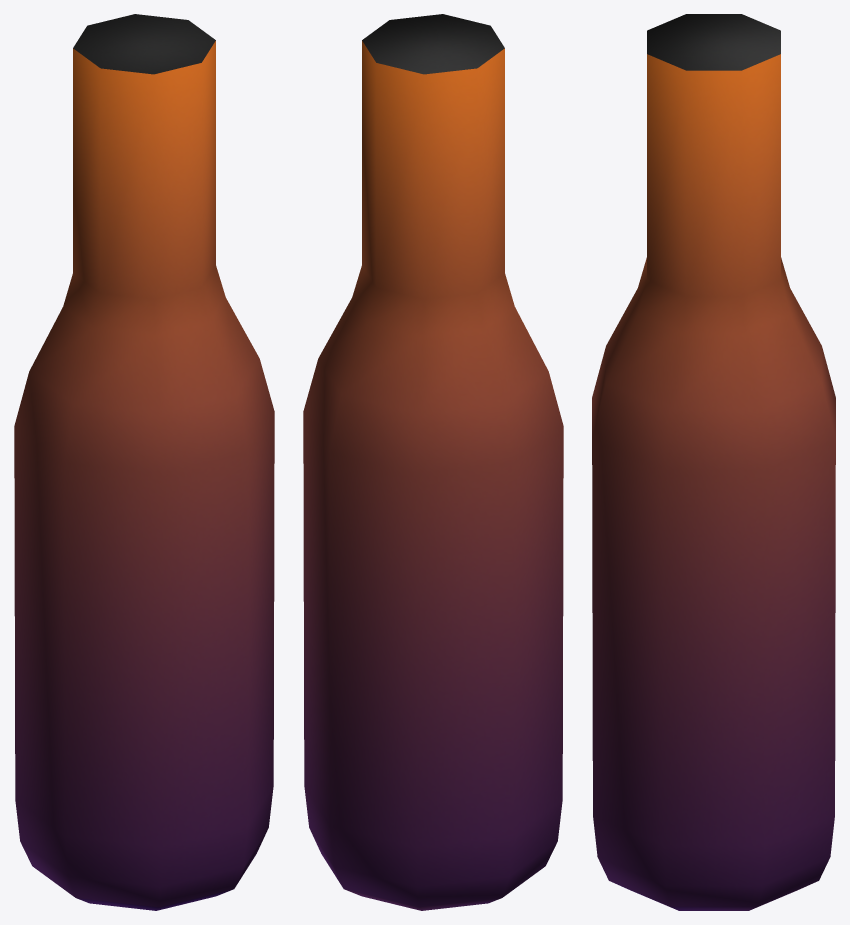
Rendered from bottle.glb.
The picture shows the model from 3 angles, left to right: view 1: azimuth 30°, elevation 25°; view 2: azimuth 150°, elevation 25°; view 3: azimuth 270°, elevation 25°; orthographic projection.
Parts seen in each view (by area): view 1: bottle; view 2: bottle; view 3: bottle.
Boxes of the visible parts, bbox=[...] form: bottle: bbox=[14, 14, 274, 910]; bottle: bbox=[303, 14, 563, 910]; bottle: bbox=[592, 14, 835, 910].
Size of the model in its own units: 0.112 by 0.4225 by 0.112.
Materials: 1 (1 with a texture image).
